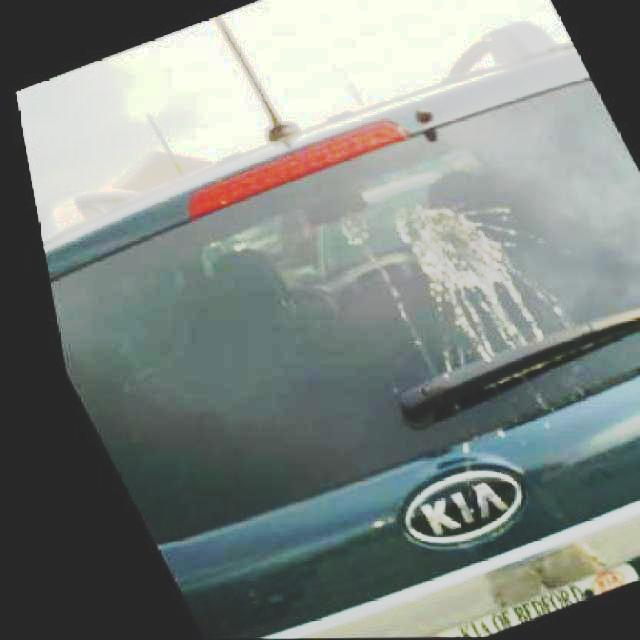Bird Poop: (396, 205, 542, 374), (330, 213, 433, 370), (201, 216, 294, 271)
